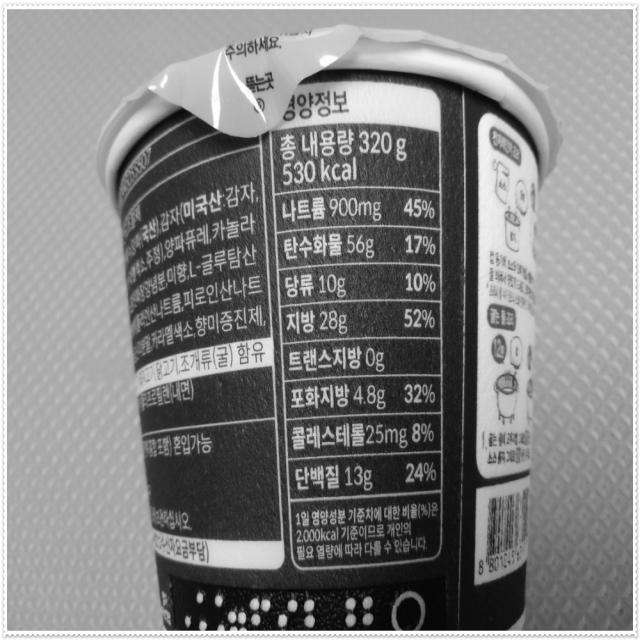Nutrition Label: (265, 70, 462, 584)
